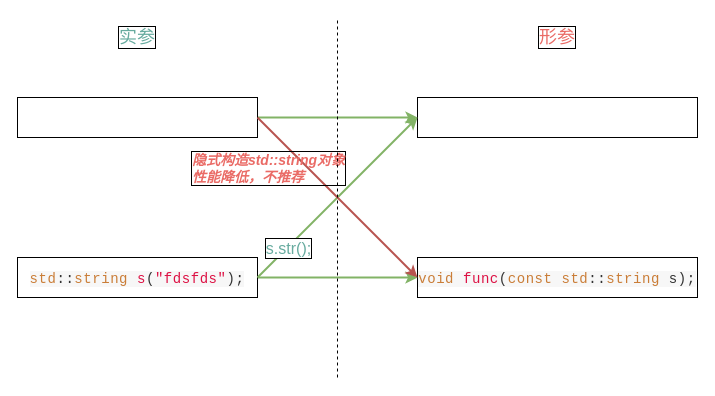
Image size: 715x396. Some labels were removed from this diagram. The centre of each missing label's shape, as x and y in pixels:
const char* s = "fdsfds" ;: the point at 137,117
void func ( const char * s) ;: the point at 557,117
